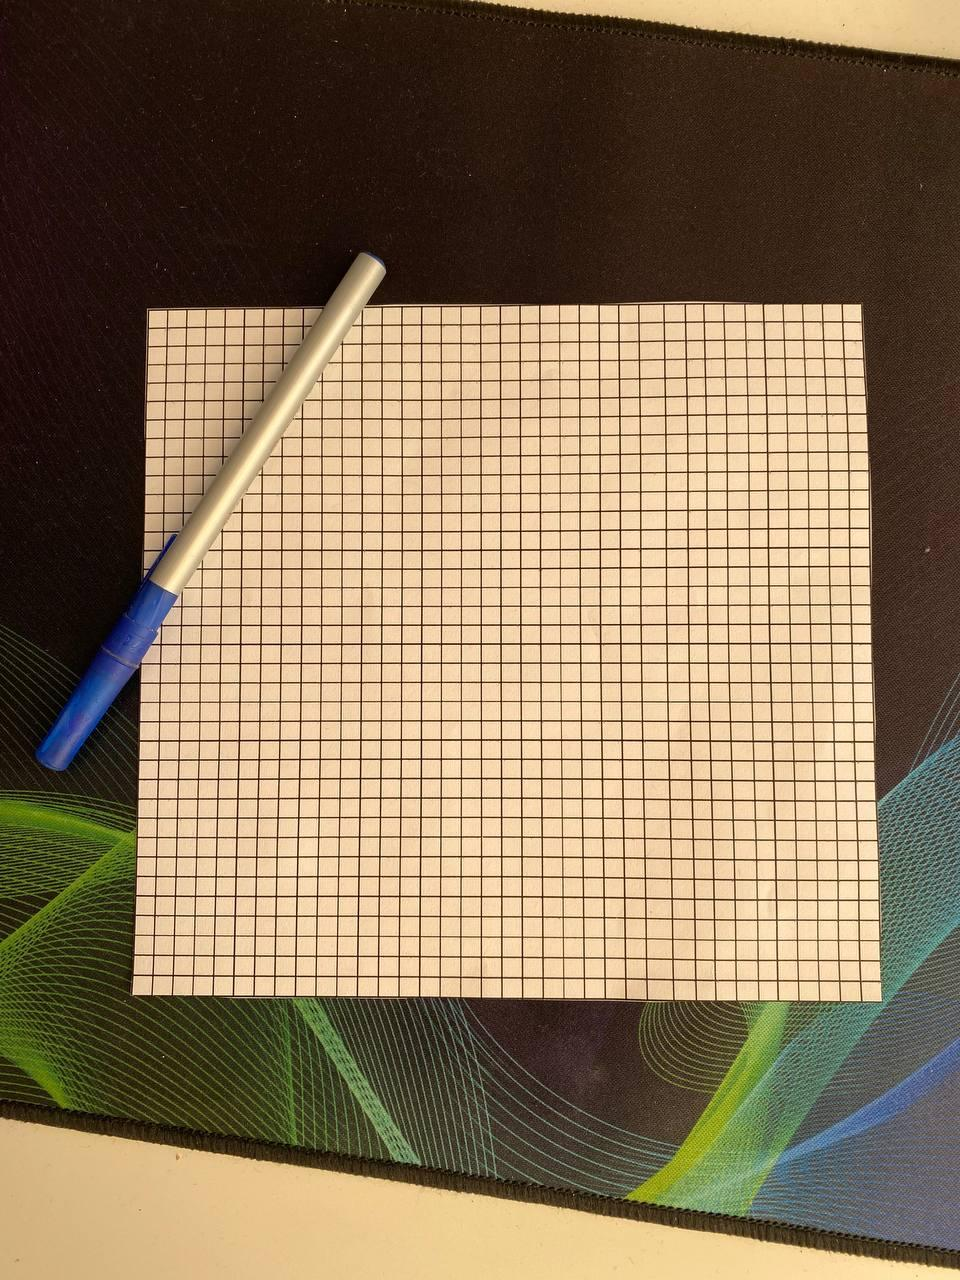grid: (131, 298, 887, 1024)
